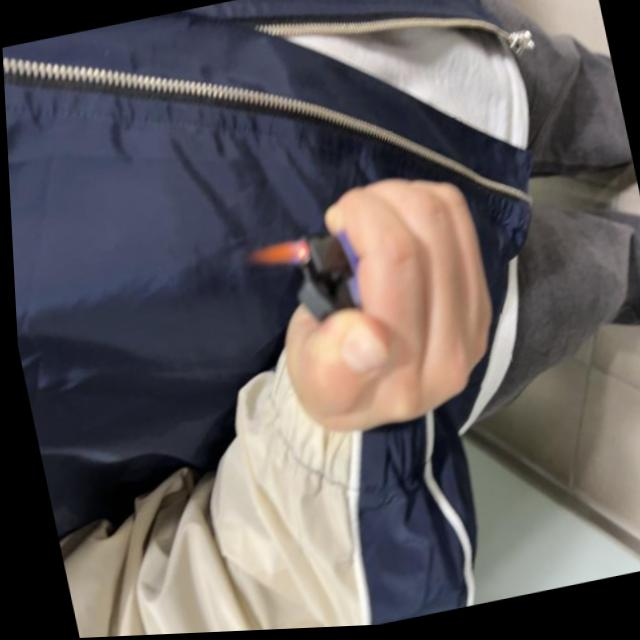Fire: (243, 232, 306, 273)
